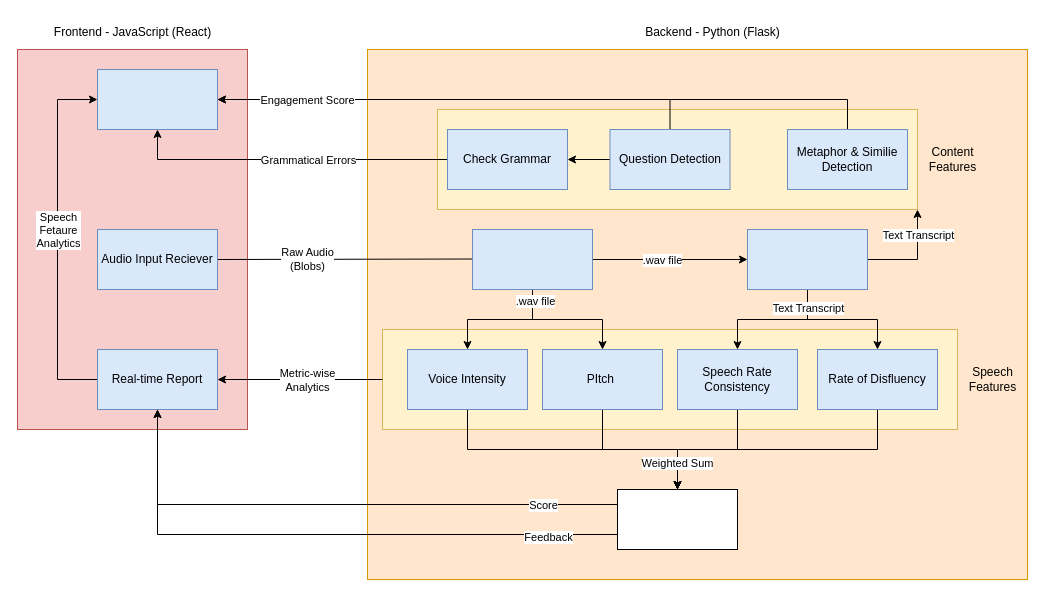
The diagram is 1045 pixels wide and 597 high, and some of its shapes have lost their labels. Each missing label, with the centre of its shape:
"Convert to Wave format" belongs at (x=532, y=259).
"FInal Report" belongs at (x=157, y=99).
"Master Score" belongs at (x=677, y=519).
"Speech-to-text" belongs at (x=807, y=259).
